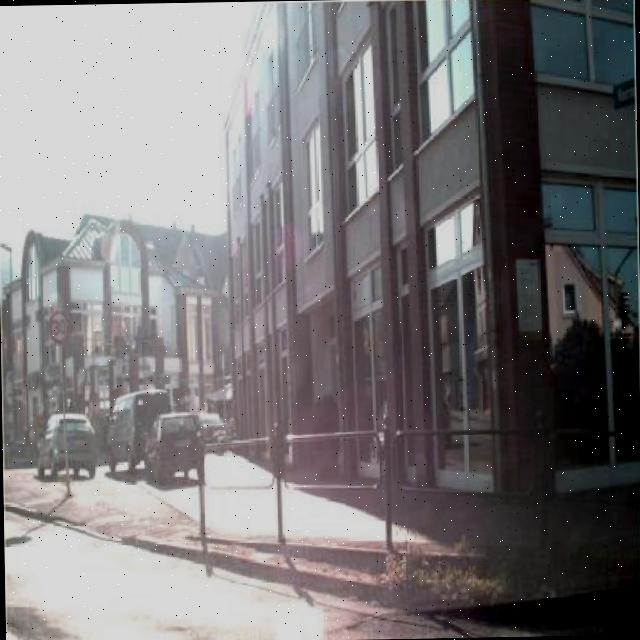Ograniczenie predkosci do 30: (46, 310, 70, 346)
